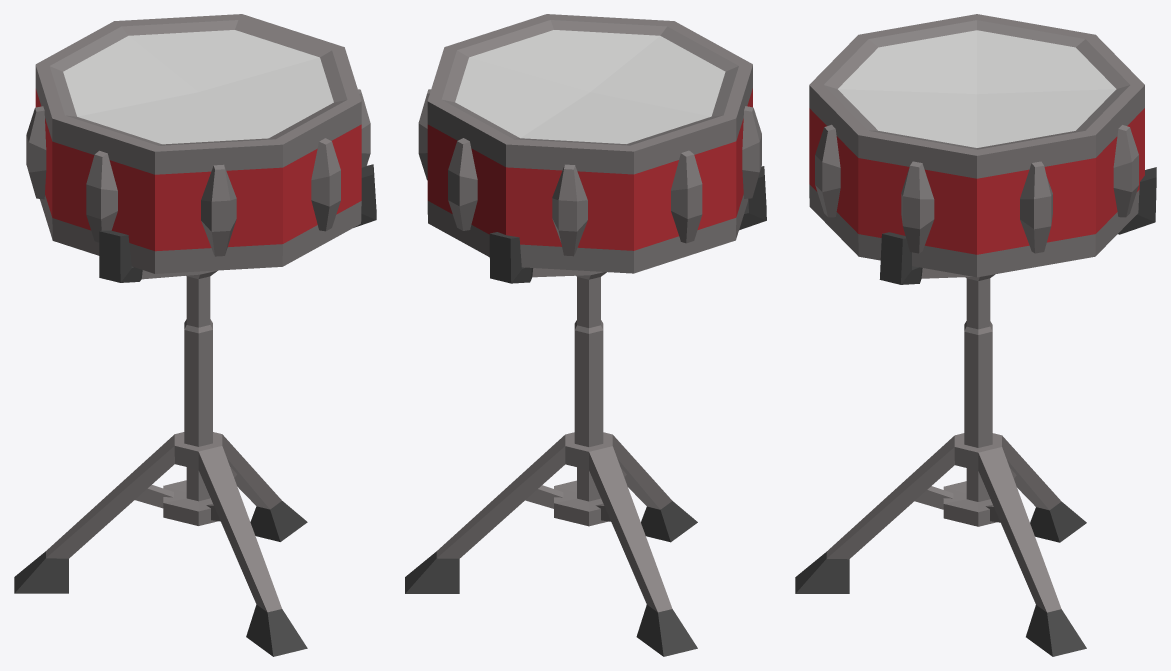
The model's file is drum-snare.fbx.
3 renders of one model, left to right at view 1: azimuth 30°, elevation 25°; view 2: azimuth 150°, elevation 25°; view 3: azimuth 270°, elevation 25°, orthographic.
Visible parts, largest first — view 1: drum-snare; view 2: drum-snare; view 3: drum-snare.
Boxes of the visible parts, box(x1,y1,x2,y2) form: drum-snare: box(14, 14, 376, 656); drum-snare: box(405, 14, 766, 656); drum-snare: box(795, 14, 1156, 656).
Bounding box in the file's own units: 0.4017 × 0.6577 × 0.4307.
